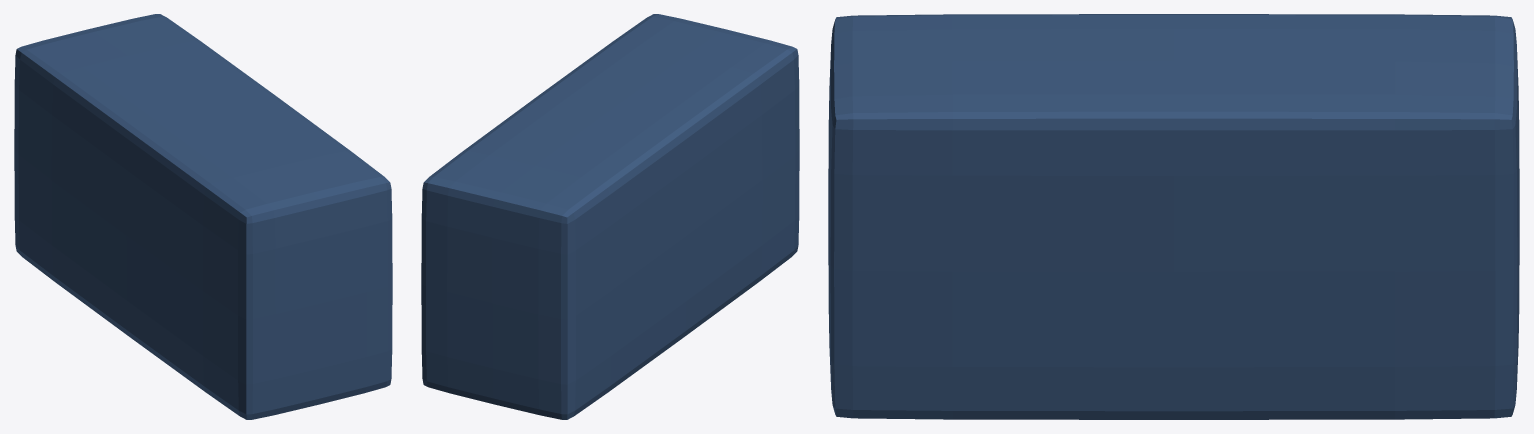
File: StartButton.fbx
3 views of the same model, side by side, from view 1: azimuth 30°, elevation 25°; view 2: azimuth 150°, elevation 25°; view 3: azimuth 270°, elevation 25° (orthographic). The views are drawn at different scales.
Visible parts, largest first — view 1: Cube; view 2: Cube; view 3: Cube.
Part boxes in pixels (left/top/right/bottom): Cube: left=14, top=14, right=392, bottom=419; Cube: left=421, top=14, right=799, bottom=419; Cube: left=828, top=14, right=1519, bottom=419.
Bounding box in the file's own units: 151 × 200 × 401.
